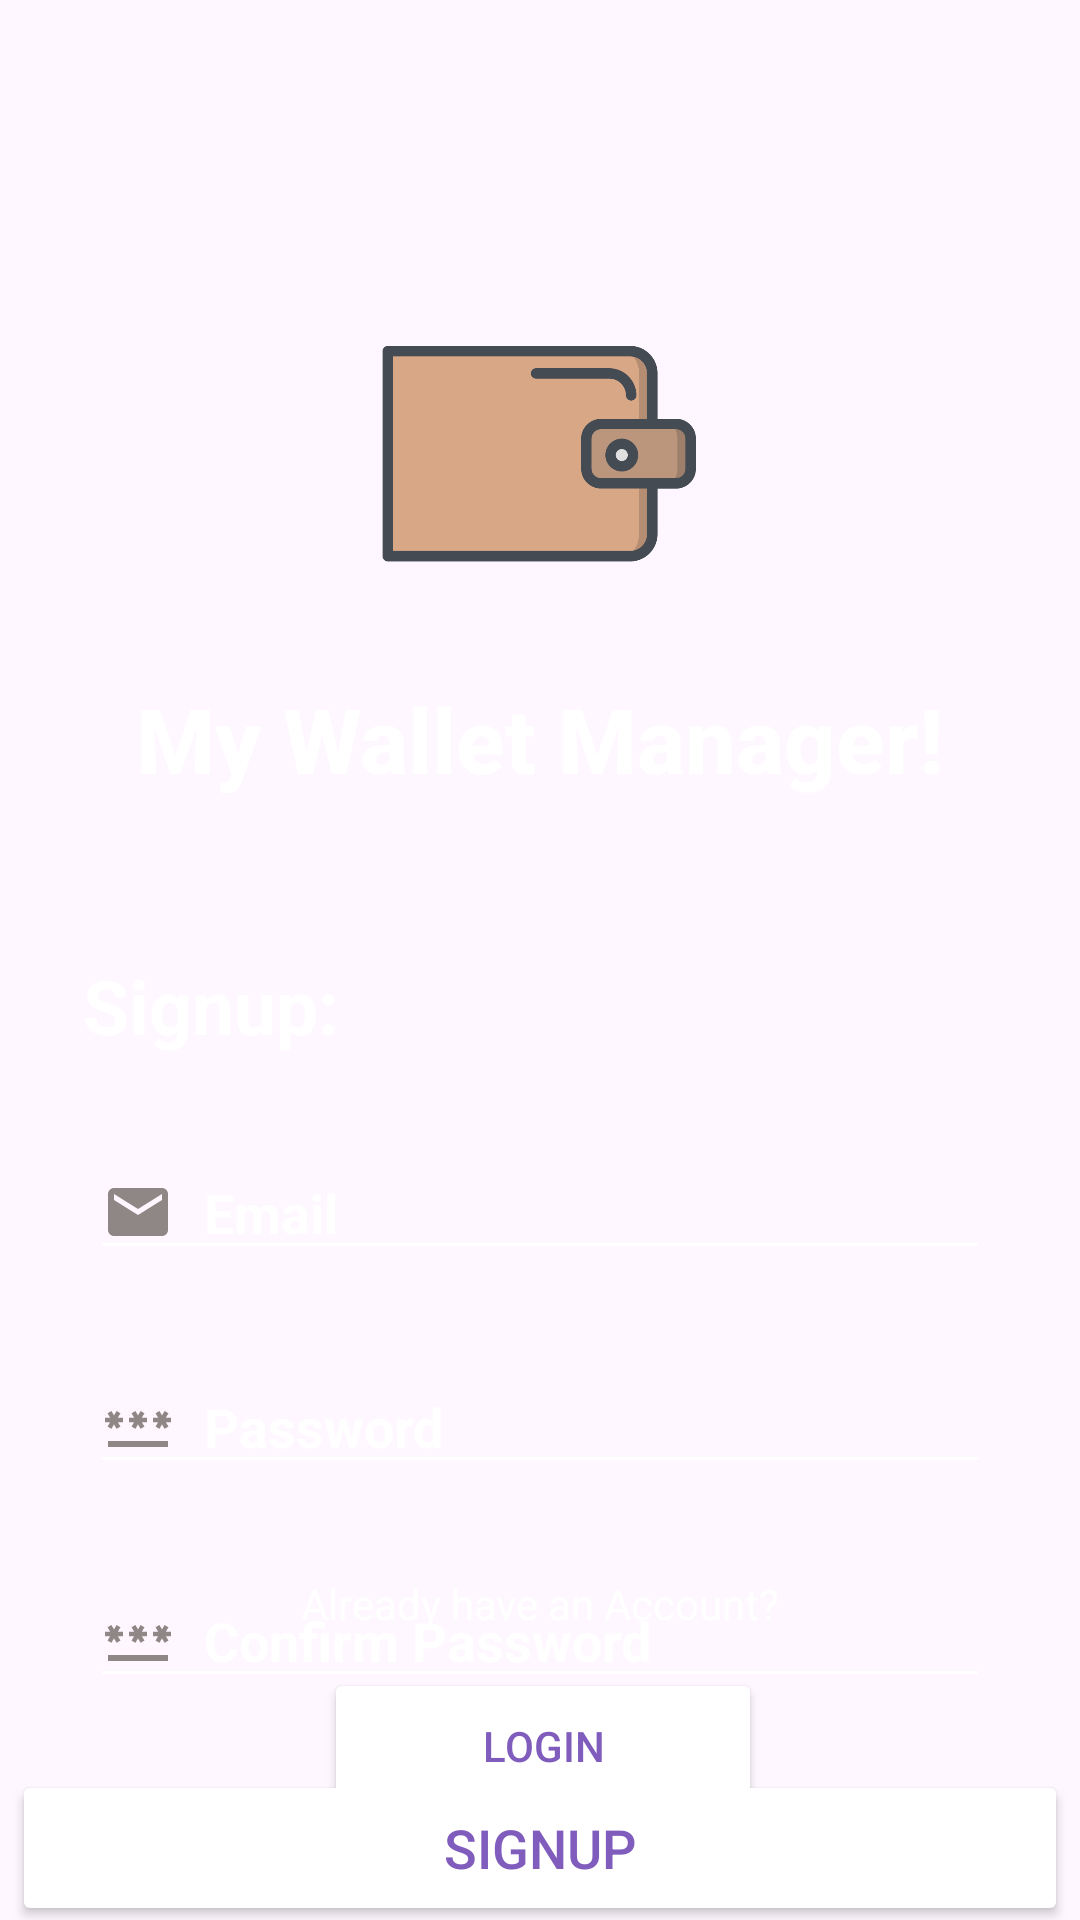

Named icons in this screenshot (1080 × 1920) and their centers, (x,y):
appicon: (539,454)
